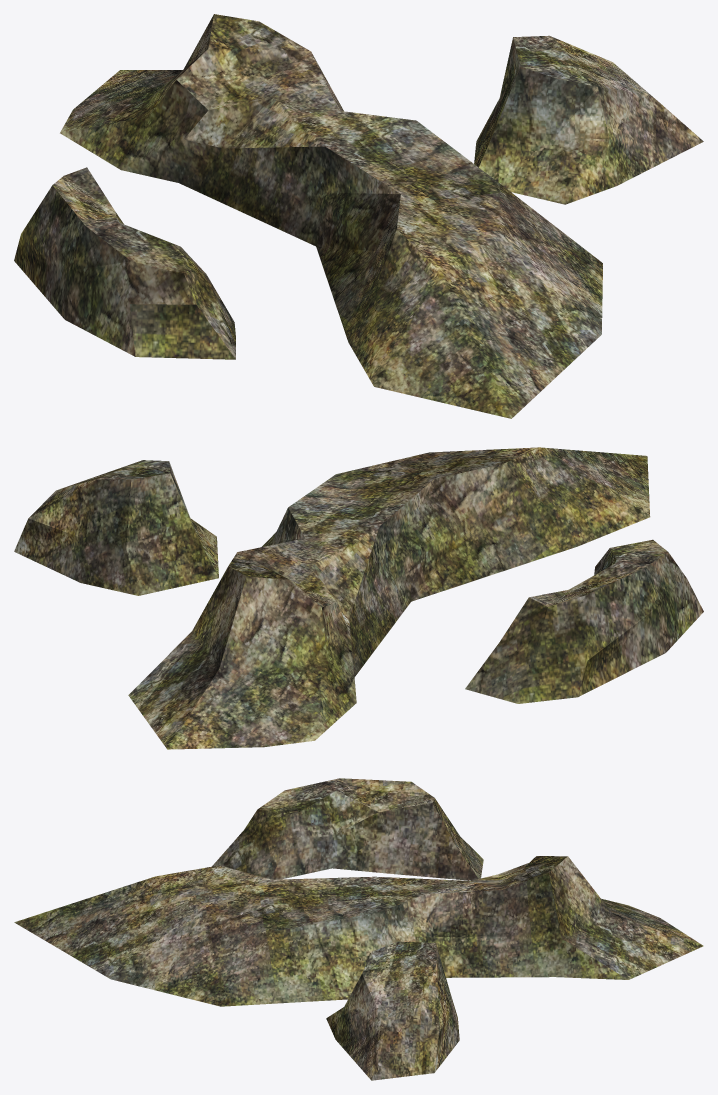
3 renders of one model, top to bottom at view 1: azimuth 30°, elevation 25°; view 2: azimuth 150°, elevation 25°; view 3: azimuth 270°, elevation 25°, orthographic. The views are drawn at different scales.
Parts seen in each view (by area): view 1: _r_grp3B; view 2: _r_grp3B; view 3: _r_grp3B.
Part boxes in pixels (x1,y1,x2,y2): _r_grp3B: (14,14,703,418); _r_grp3B: (14,447,703,749); _r_grp3B: (14,778,703,1080).
Size of the model in its own units: 21.88 by 3.81 by 26.08.
Materials: 1 (1 with a texture image).
